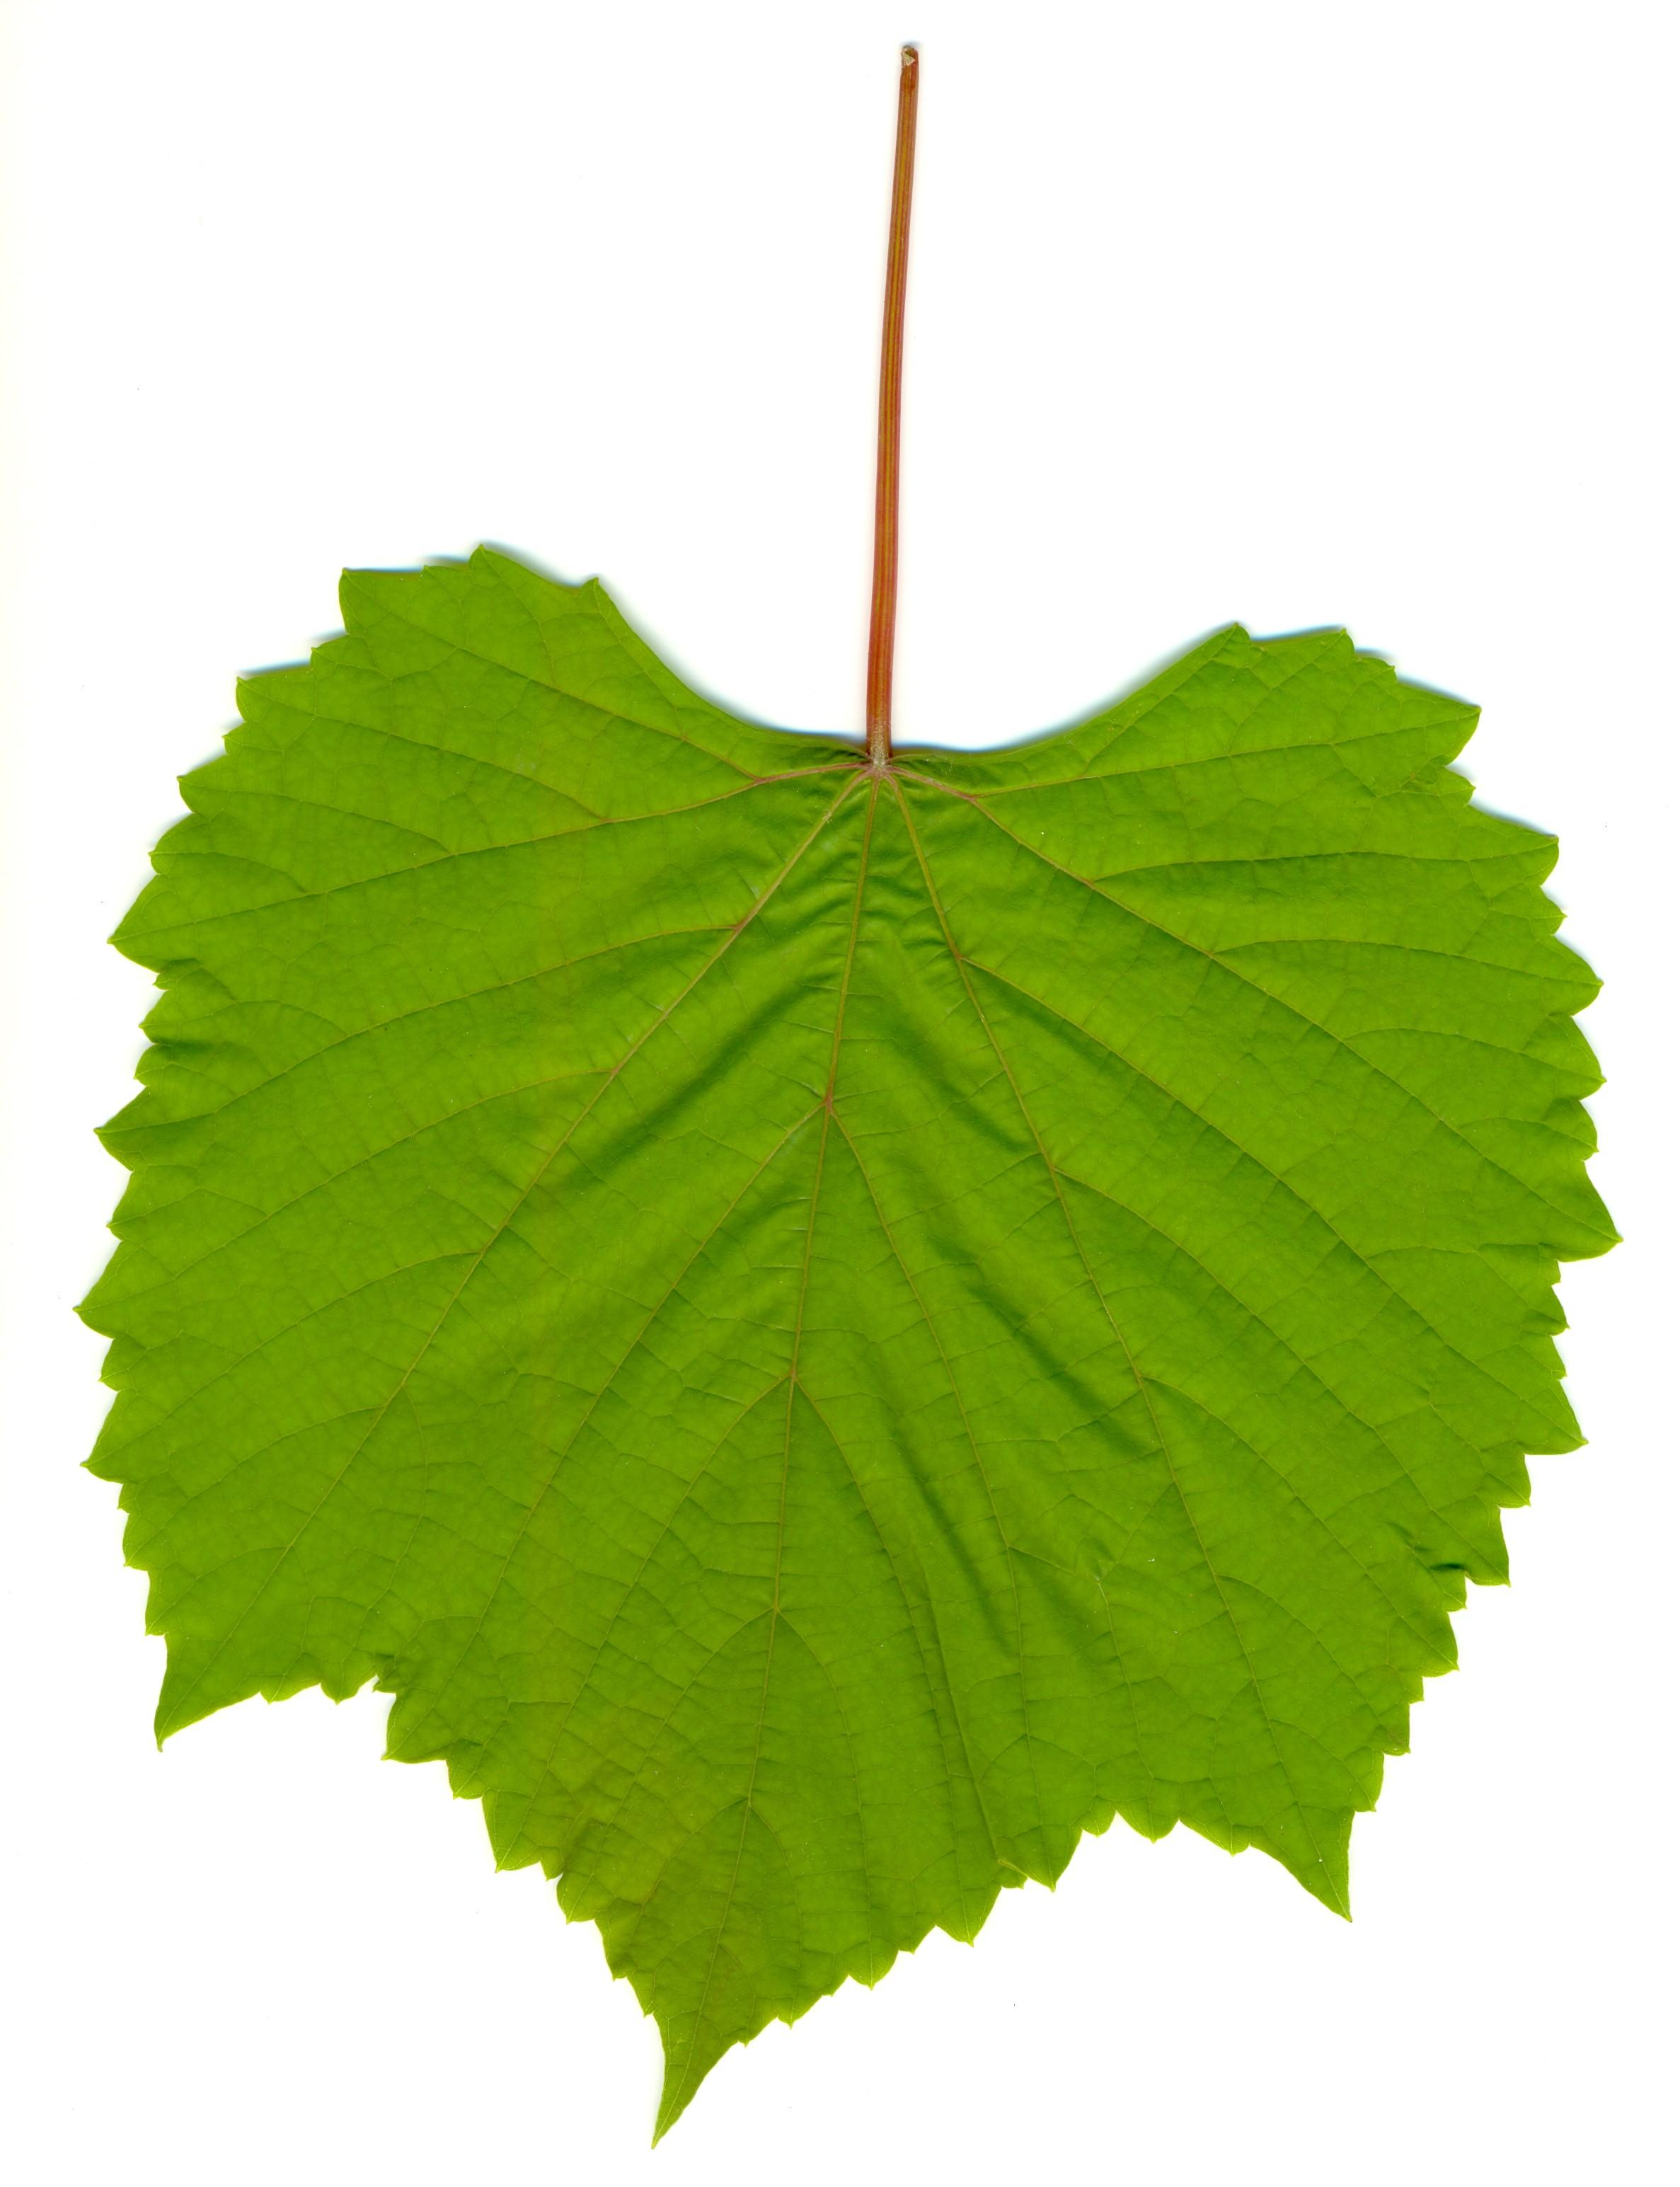grape leaf black rot: (67, 348, 1652, 2106)
